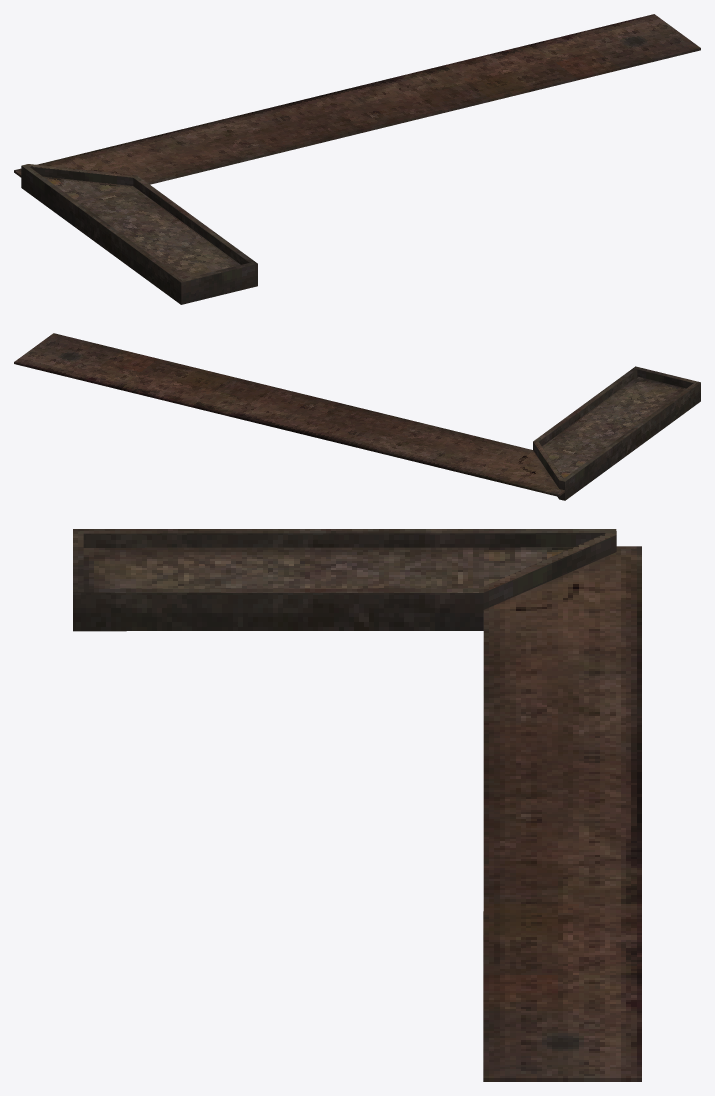
The model's file is misc_tool_mx_1.glb.
3 renders of one model, top to bottom at view 1: azimuth 30°, elevation 25°; view 2: azimuth 150°, elevation 25°; view 3: azimuth 270°, elevation 25°, orthographic. The views are drawn at different scales.
Parts seen in each view (by area): view 1: misc_tool_mx_1; view 2: misc_tool_mx_1; view 3: misc_tool_mx_1.
Part boxes in pixels (x1,y1,x2,y2): misc_tool_mx_1: (14,14,700,304); misc_tool_mx_1: (14,333,700,500); misc_tool_mx_1: (73,529,641,1081).
Size of the model in its own units: 0.5972 by 0.02 by 0.27.
1 material, 1 textured.
